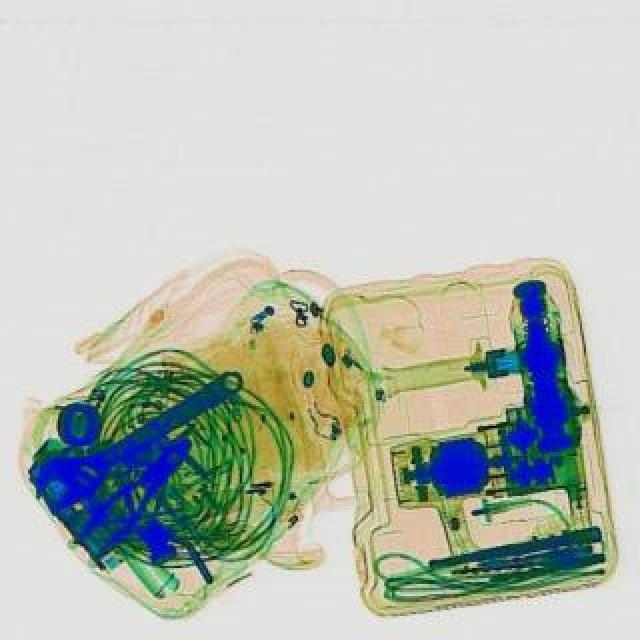scissors: (18, 352, 258, 522)
wrench: (64, 424, 206, 564)
